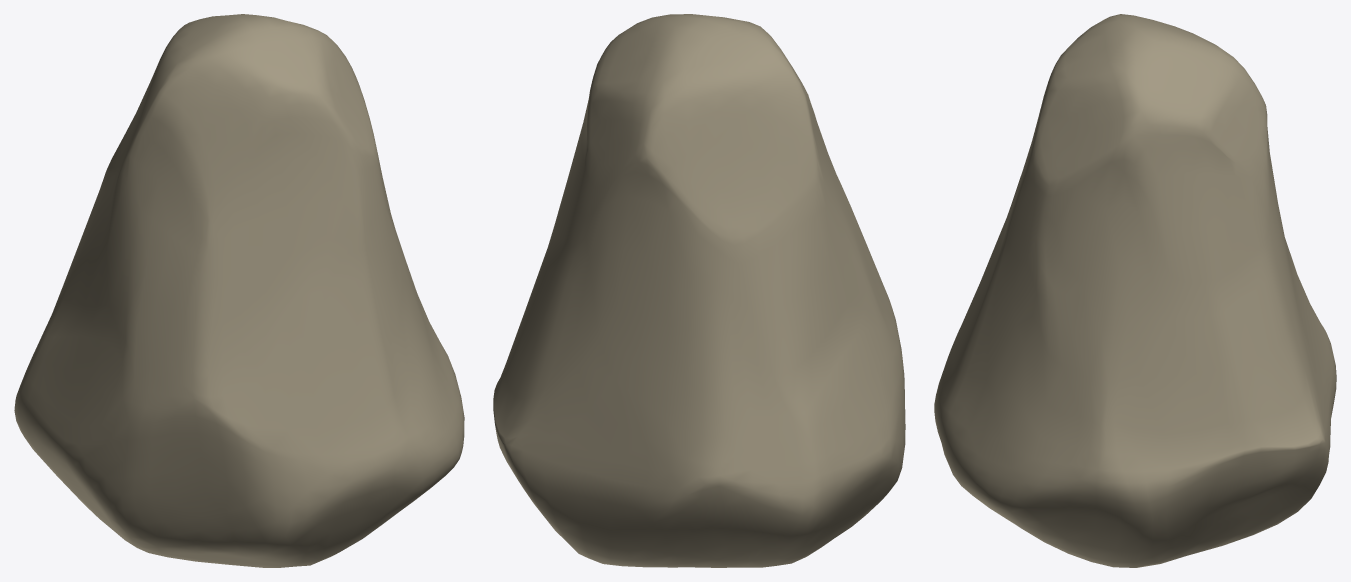
The model's file is Environment_Rock_2.glb.
The picture shows the model from 3 angles, left to right: view 1: azimuth 30°, elevation 25°; view 2: azimuth 150°, elevation 25°; view 3: azimuth 270°, elevation 25°; orthographic projection. The views are drawn at different scales.
Parts seen in each view (by area): view 1: Environment_Rock_2; view 2: Environment_Rock_2; view 3: Environment_Rock_2.
Part boxes in pixels (x1,y1,x2,y2): Environment_Rock_2: [14, 14, 464, 567]; Environment_Rock_2: [493, 14, 905, 567]; Environment_Rock_2: [934, 14, 1336, 567].
Bounding box in the file's own units: 0.7832 × 1.05 × 0.7585.
1 material, 1 textured.
